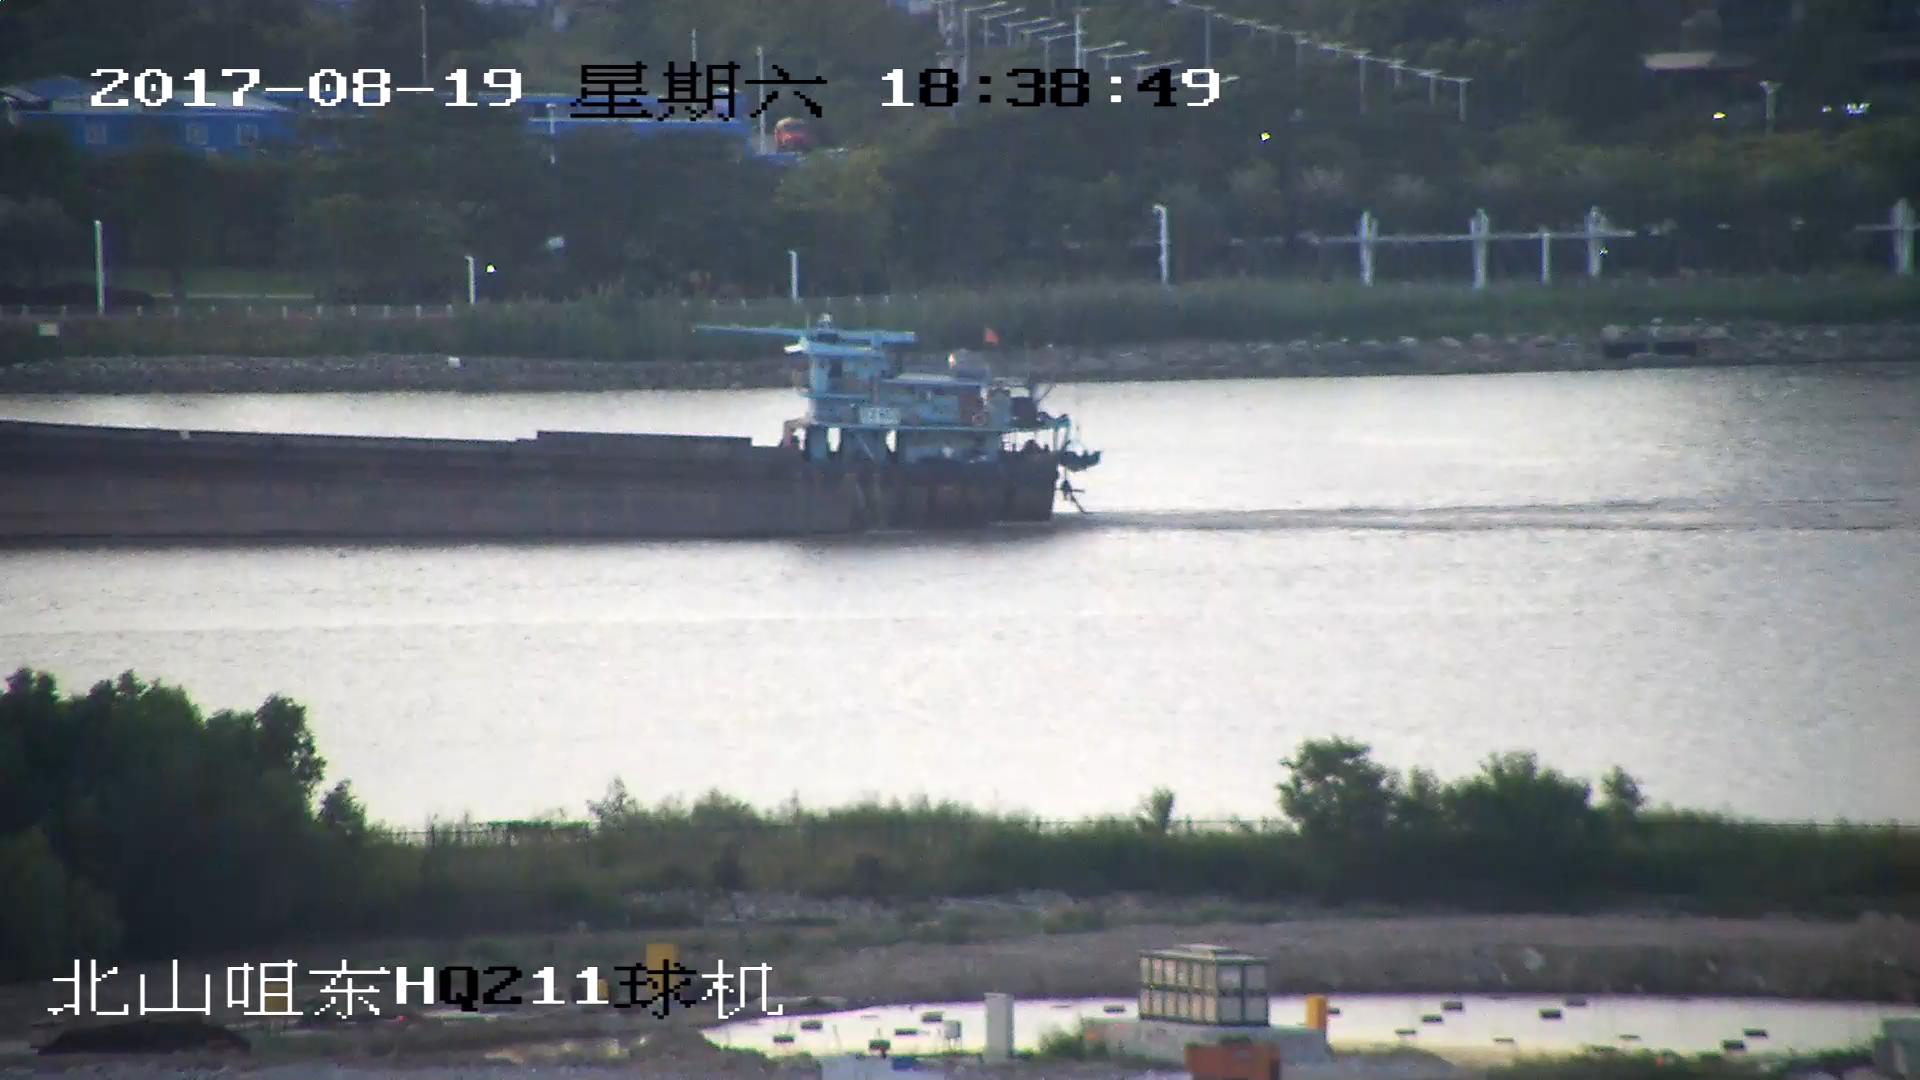bulk cargo carrier: (1, 321, 1104, 544)
